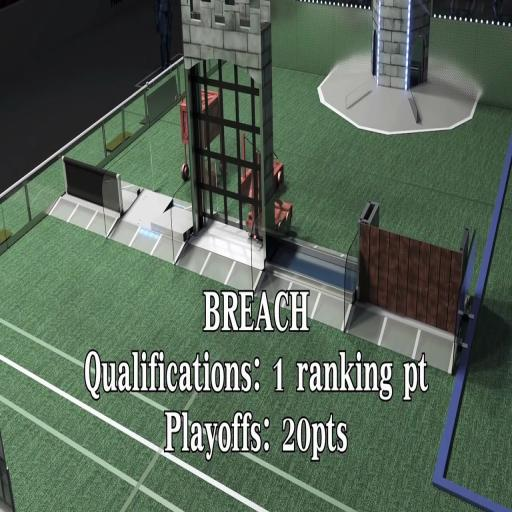robot: (176, 88, 233, 189), (236, 131, 287, 201), (246, 184, 296, 242)
